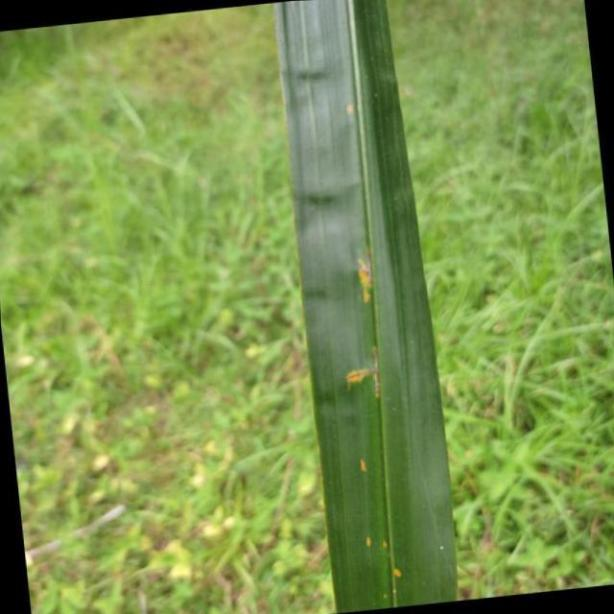Boron: (276, 0, 462, 610)
